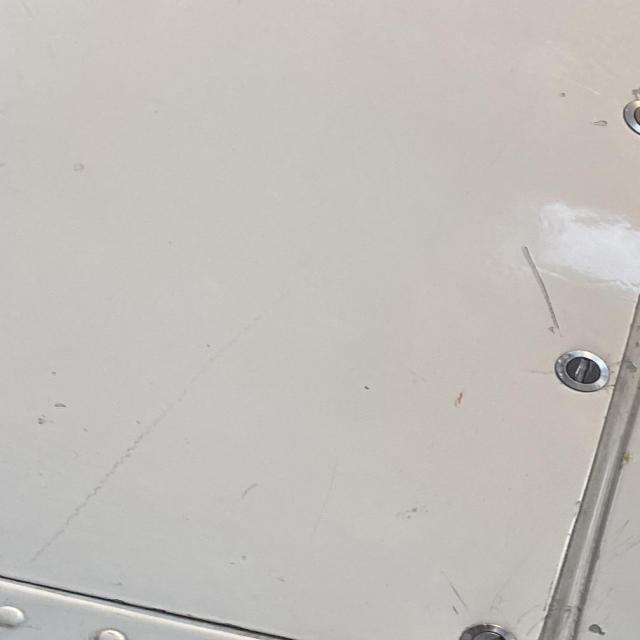Paint-off: (585, 621, 603, 634), (590, 117, 610, 128), (628, 83, 640, 96)
Scratch: (519, 243, 558, 331)
